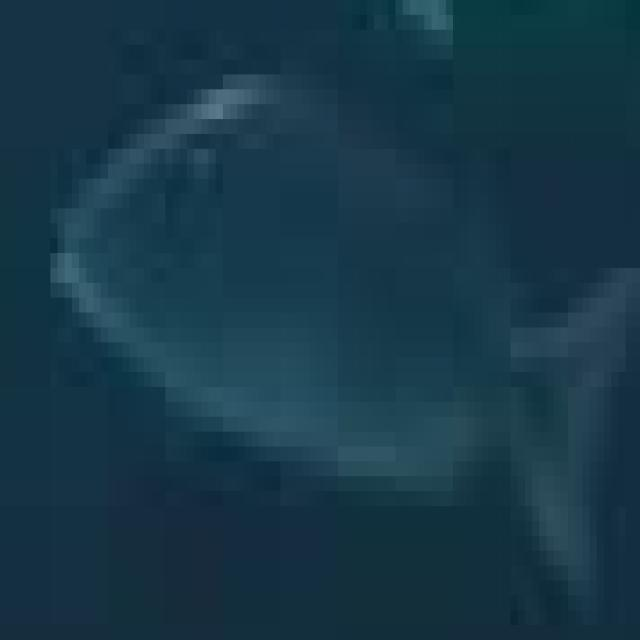fish: (0, 15, 633, 640)
